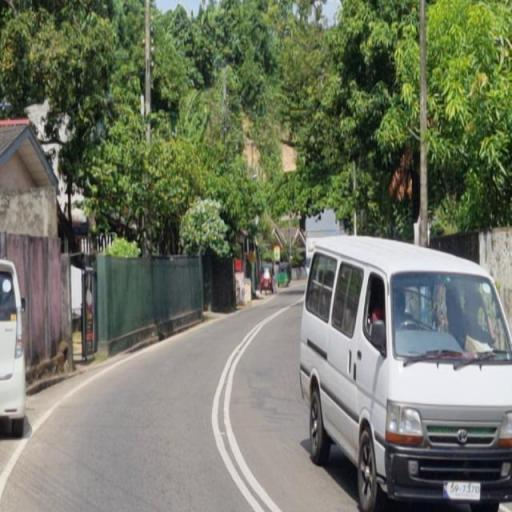double_white_line: (210, 306, 288, 510)
